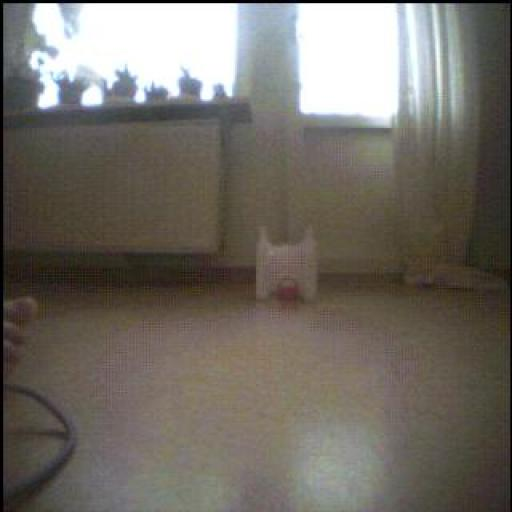Basket: (278, 279, 300, 302)
